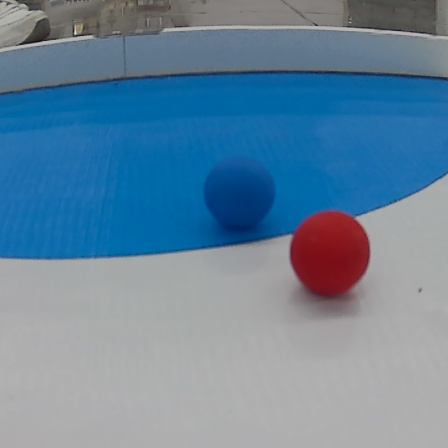blue: (199, 156, 283, 236)
blue_base: (3, 76, 448, 259)
red: (286, 209, 371, 297)
